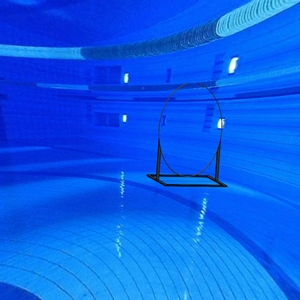circle: (146, 82, 229, 189)
